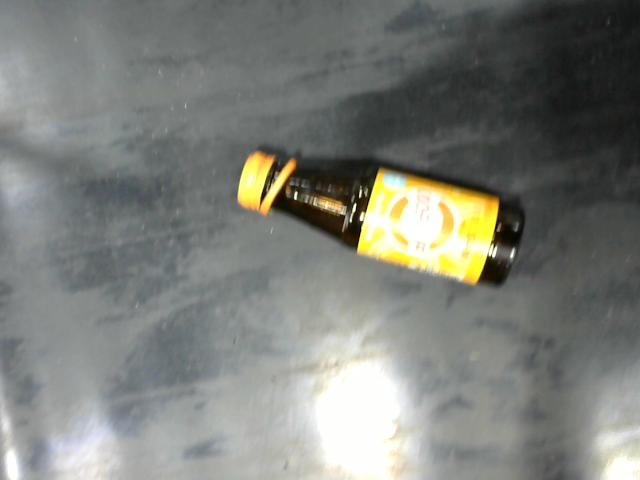glass: (236, 149, 529, 293)
